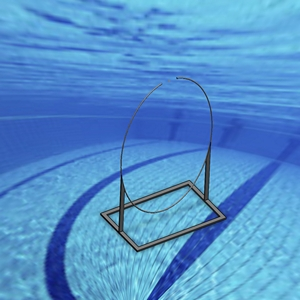circle: (99, 74, 228, 252)
